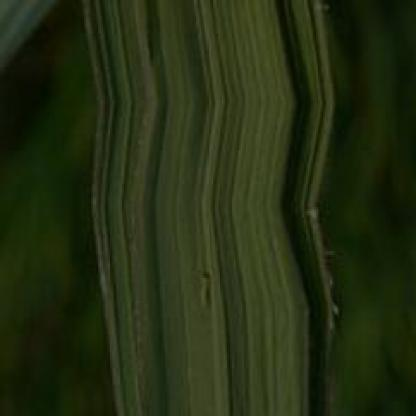leaf-folder: (183, 256, 221, 322)
